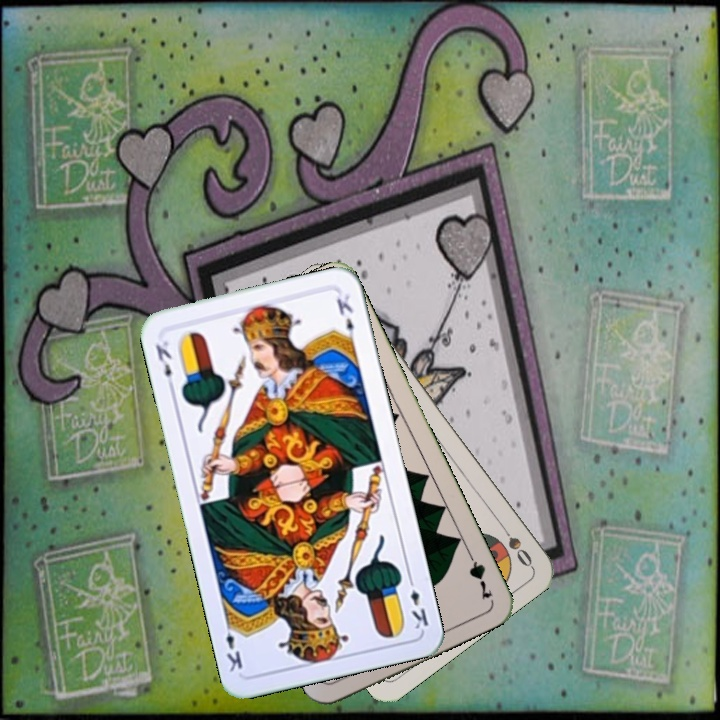EK: (404, 572, 431, 632), (151, 336, 178, 392)
G7: (462, 545, 495, 603)
SO: (494, 517, 536, 570)
